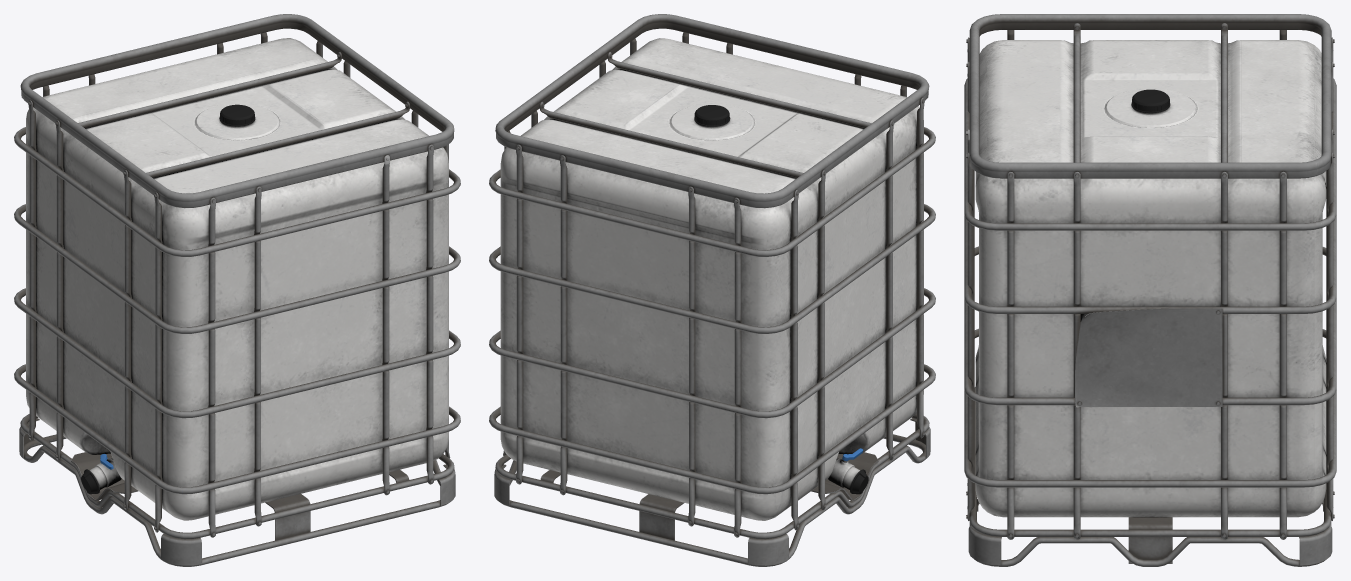
The model's file is water_container.glb.
3 views of the same model, side by side, from view 1: azimuth 30°, elevation 25°; view 2: azimuth 150°, elevation 25°; view 3: azimuth 270°, elevation 25° (orthographic). The views are drawn at different scales.
Visible parts, largest first — view 1: Water_Container; view 2: Water_Container; view 3: Water_Container.
Boxes of the visible parts, bbox=[...] form: Water_Container: bbox=[14, 14, 460, 566]; Water_Container: bbox=[489, 14, 935, 566]; Water_Container: bbox=[964, 14, 1336, 566].
Size of the model in its own units: 1.34 by 1.51 by 1.26.
Materials: 1 (1 with a texture image).
